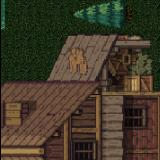Obstacle: (4, 30, 160, 159), (104, 0, 135, 29)
